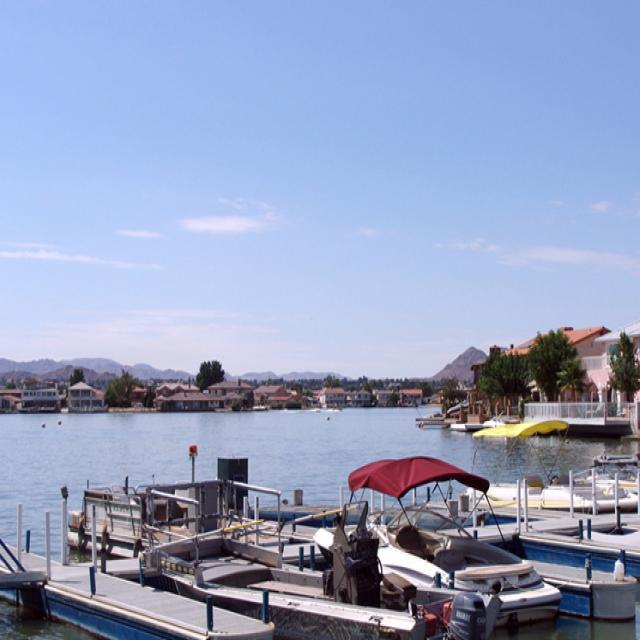houseboat: (336, 506, 535, 612), (516, 544, 616, 626)
